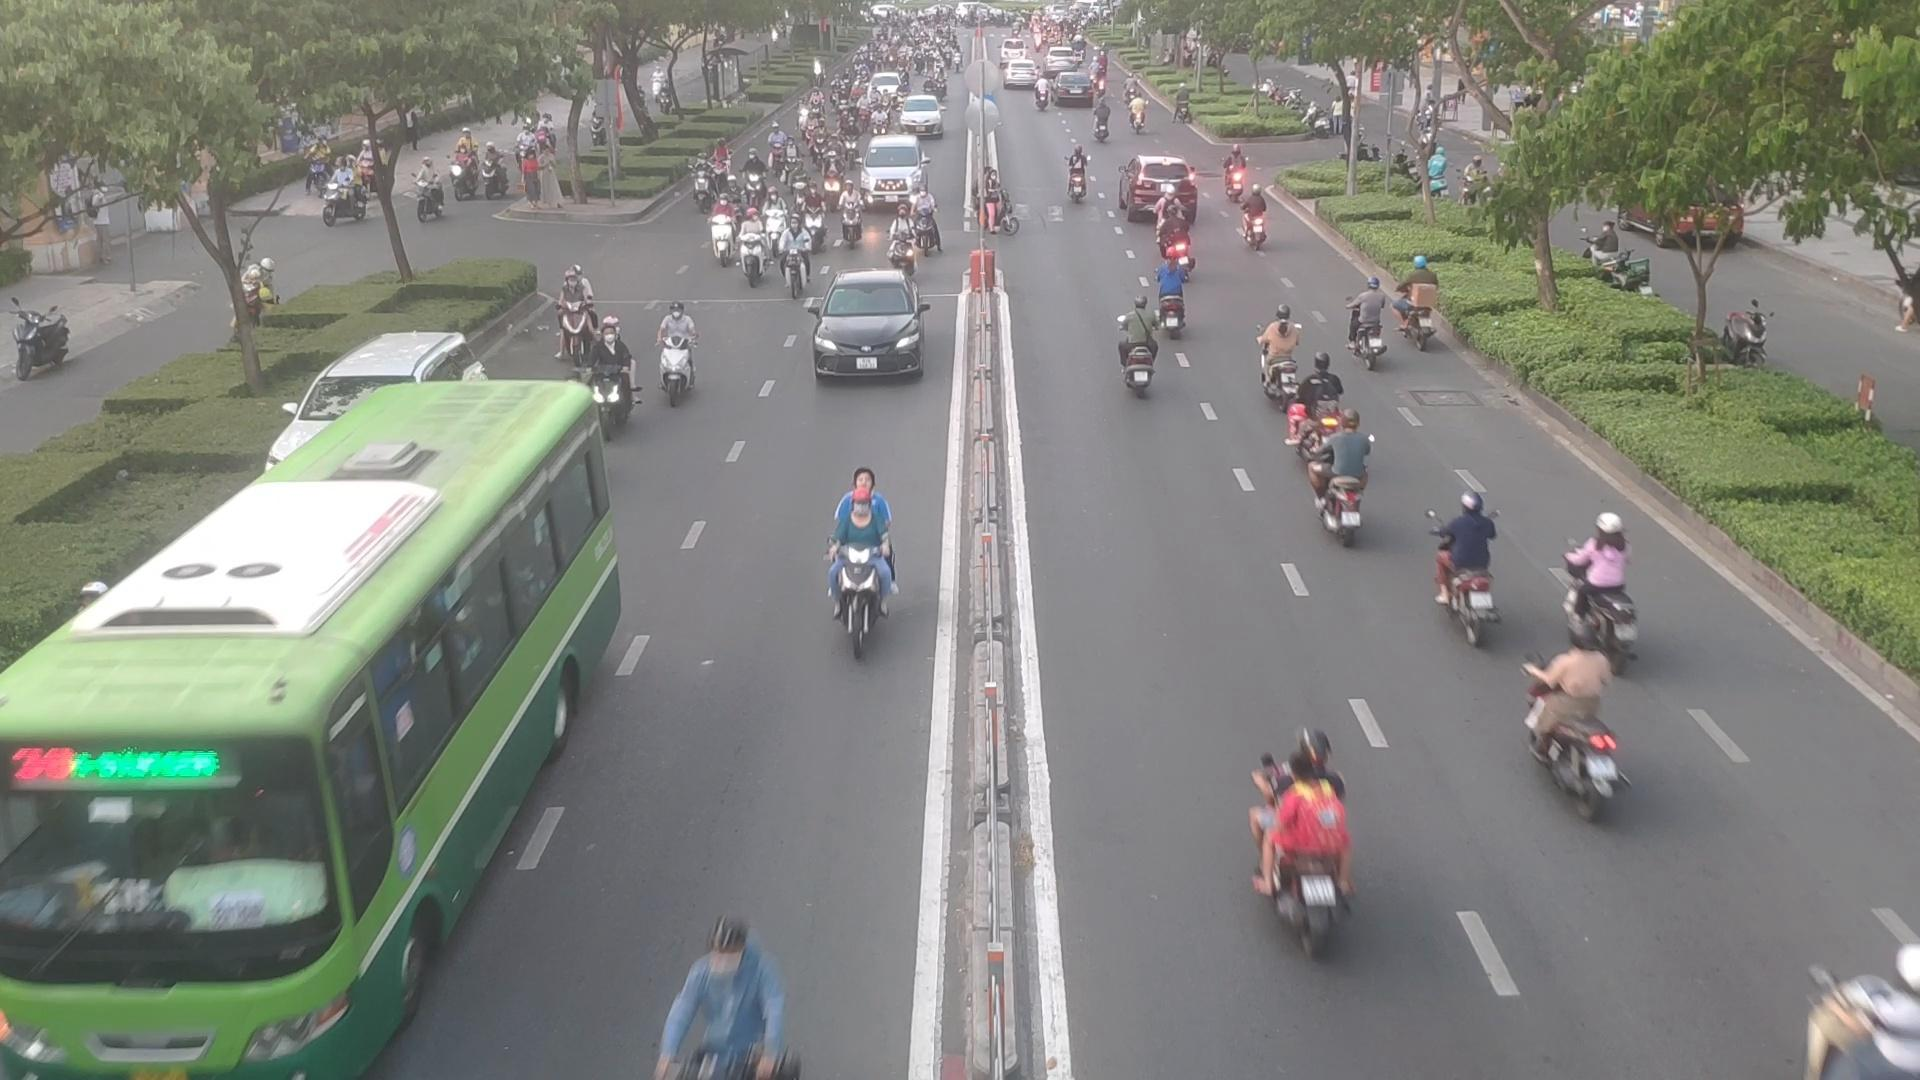car: (7, 385, 612, 1075), (802, 272, 928, 382), (1124, 157, 1201, 223)
motorbike: (1242, 748, 1371, 947), (640, 930, 794, 1080), (1518, 645, 1631, 814), (1797, 943, 1920, 1080), (822, 465, 903, 655), (1568, 514, 1648, 658), (1431, 496, 1507, 638), (1302, 406, 1379, 535), (591, 316, 636, 440), (1109, 299, 1164, 400), (650, 302, 703, 401), (1257, 311, 1307, 407), (1337, 281, 1390, 367), (1396, 257, 1444, 344), (884, 208, 934, 276), (729, 222, 775, 287), (1150, 265, 1196, 328), (1240, 189, 1275, 251), (1059, 149, 1096, 207), (707, 208, 742, 266)
